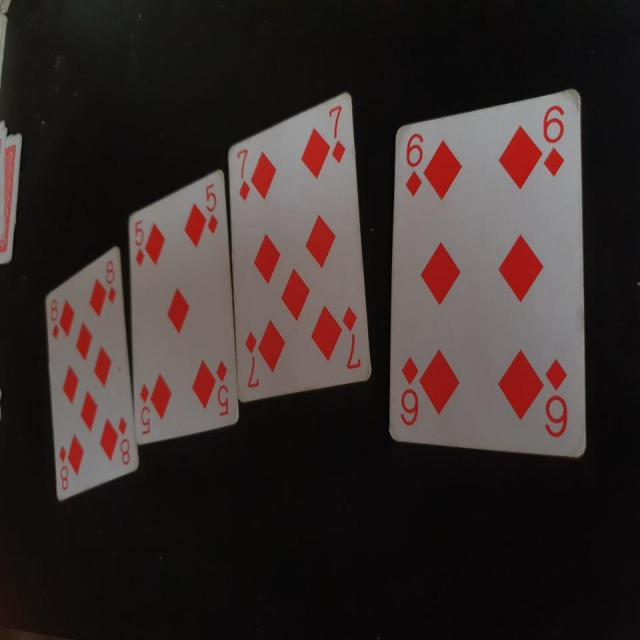5 Diamonds: (125, 169, 241, 443)
6 Diamonds: (386, 84, 587, 450)
7 Diamonds: (225, 93, 374, 404)
8 Diamonds: (45, 244, 140, 504)
